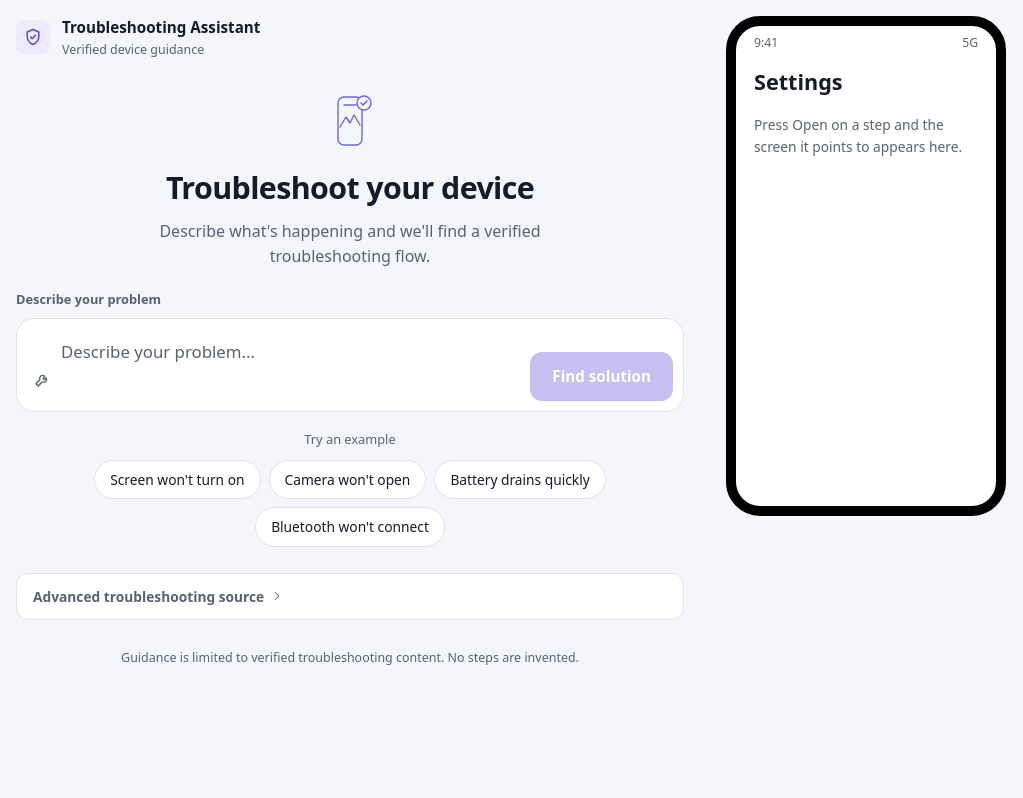
it: App › sends the message, renders the plan and its meta strip
The width and height of the screenshot is (1023, 798).
Type "touch is laggy" into the text box labelled "Describe your problem" at (291, 365), box [61,329,520,401]
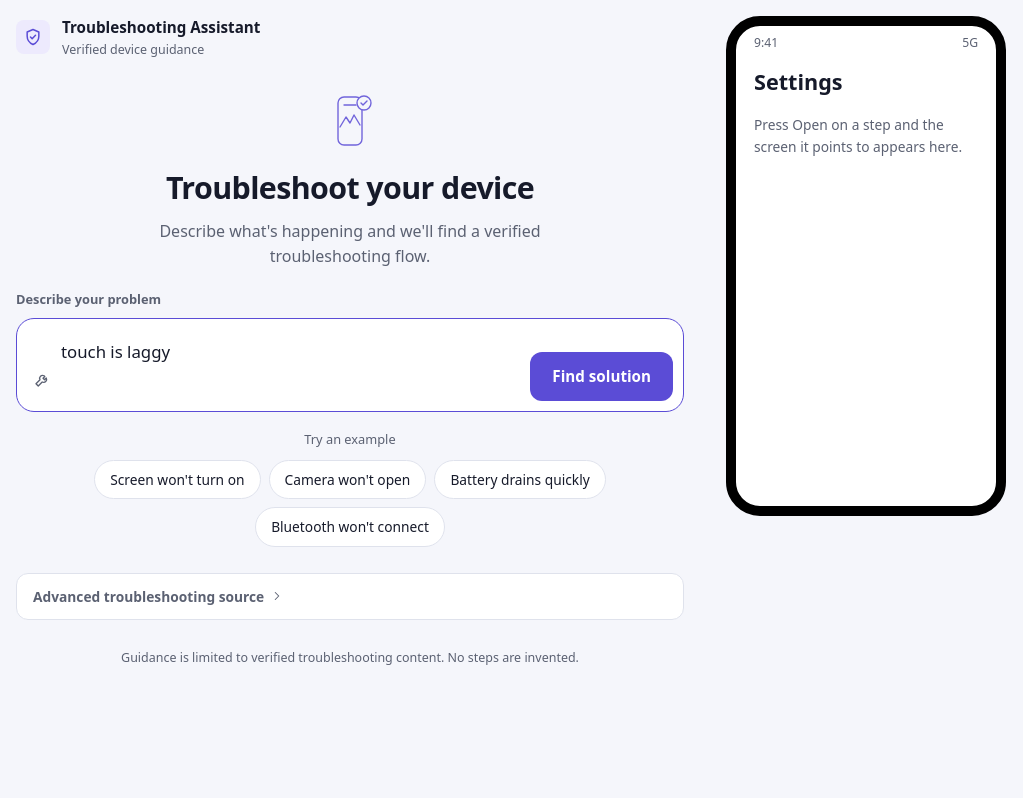
Click the button "Find solution" at (602, 377), box [530,352,673,401]
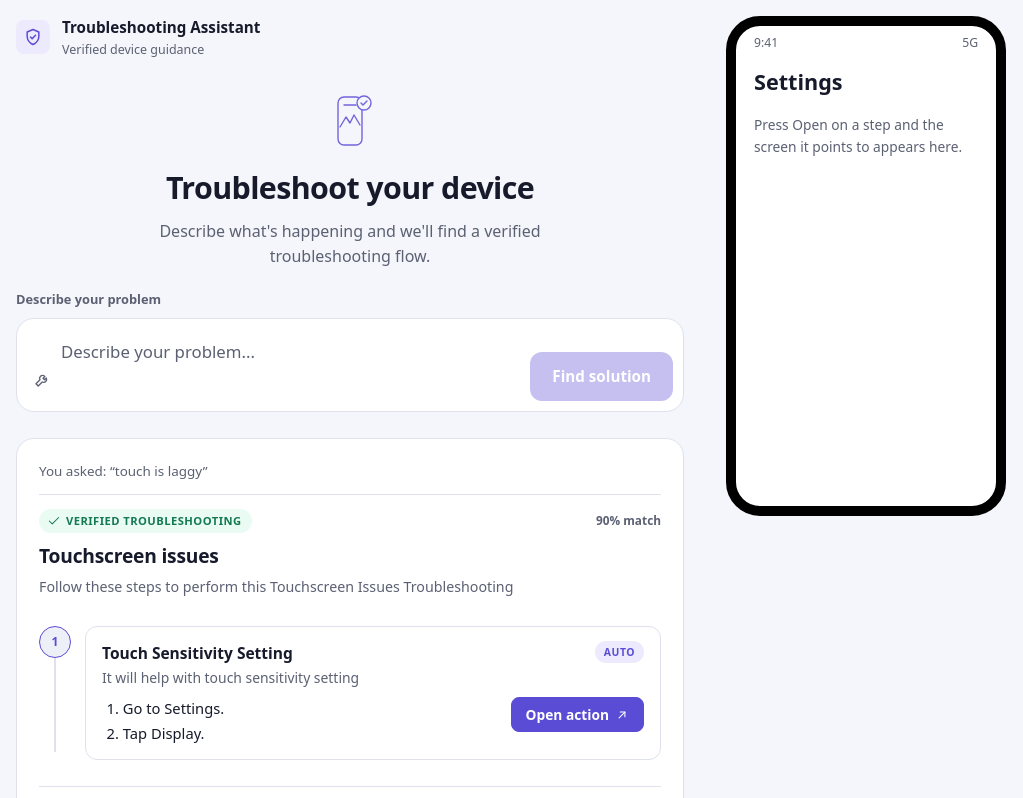
Expected: the text "Follow these steps to perform this Touchscreen Issues Troubleshooting" is shown, [39,577,513,596]
